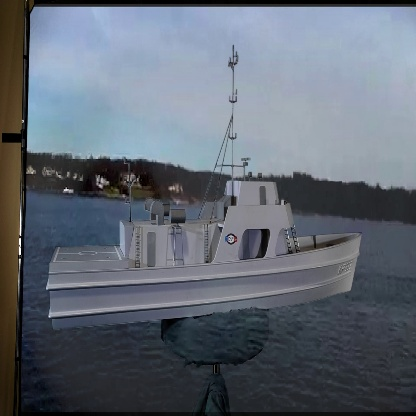YP689: (47, 44, 362, 331)
